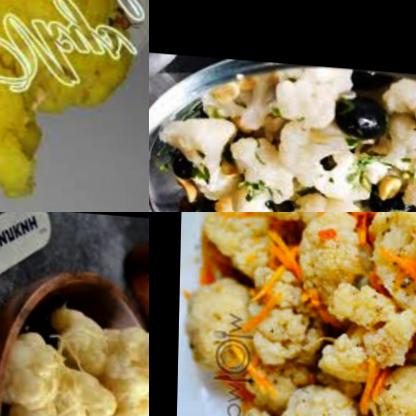cayliflower: (160, 72, 345, 212), (0, 0, 128, 190), (0, 293, 149, 416), (243, 248, 329, 397), (289, 212, 376, 327), (178, 276, 259, 387), (324, 273, 416, 369), (315, 335, 416, 416), (361, 212, 416, 331), (373, 68, 416, 208), (198, 212, 282, 281), (242, 382, 369, 416)
